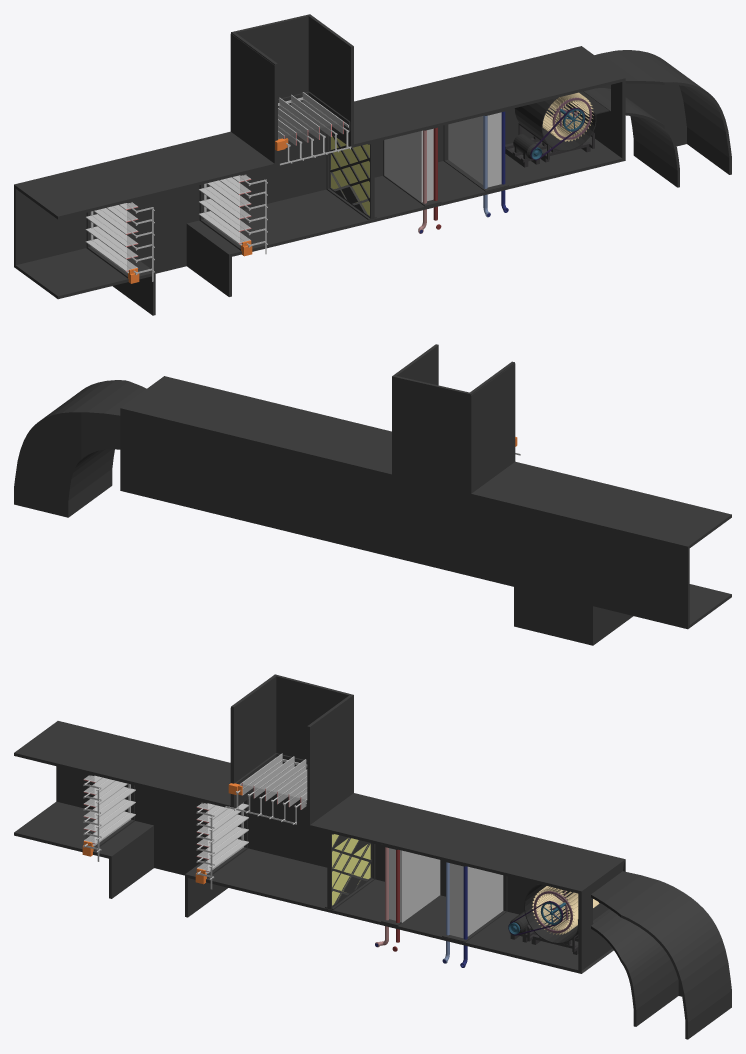
The model's file is rooftop-joined.obj.
3 views of the same model, one above another, from view 1: azimuth 30°, elevation 25°; view 2: azimuth 150°, elevation 25°; view 3: azimuth 330°, elevation 25° (orthographic).
Parts seen in each view (by area): view 1: BackDucting_Layer_3; view 2: BackDucting_Layer_3; view 3: BackDucting_Layer_3.
Part boxes in pixels (x1=…): BackDucting_Layer_3: x1=14, y1=14, x2=731, y2=315; BackDucting_Layer_3: x1=14, y1=344, x2=731, y2=645; BackDucting_Layer_3: x1=14, y1=674, x2=731, y2=1039.
Bounding box in the file's own units: 15.9 × 4.99 × 2.07.
